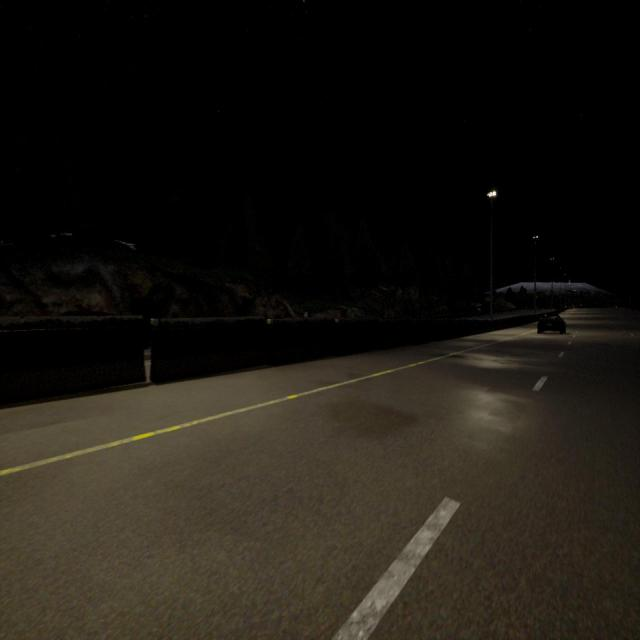Vehicle: (538, 314, 566, 334)
